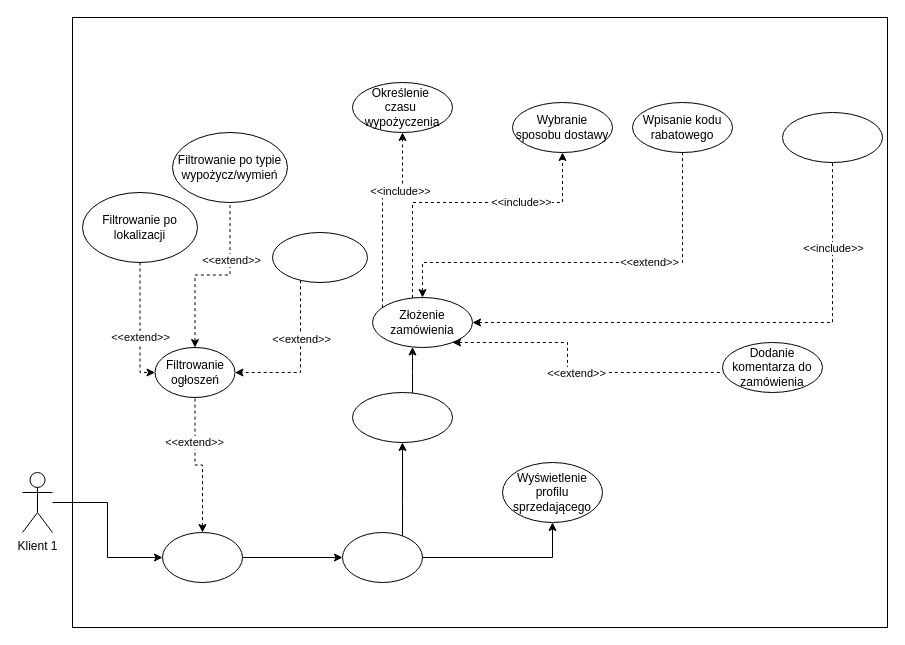
The diagram is 905 pixels wide and 645 high, and some of its shapes have lost their labels. The centre of each missing label's shape, as x and y in pixels:
Filtrowanie po kategorii: [320,257]
Podgląd szczegółów oferty: [382,557]
Wybór płatności: [832,137]
Wyświetlenie ekranu zamawiania: [402,417]
Wyświetlenie tablicy ogłoszeń: [202,557]
